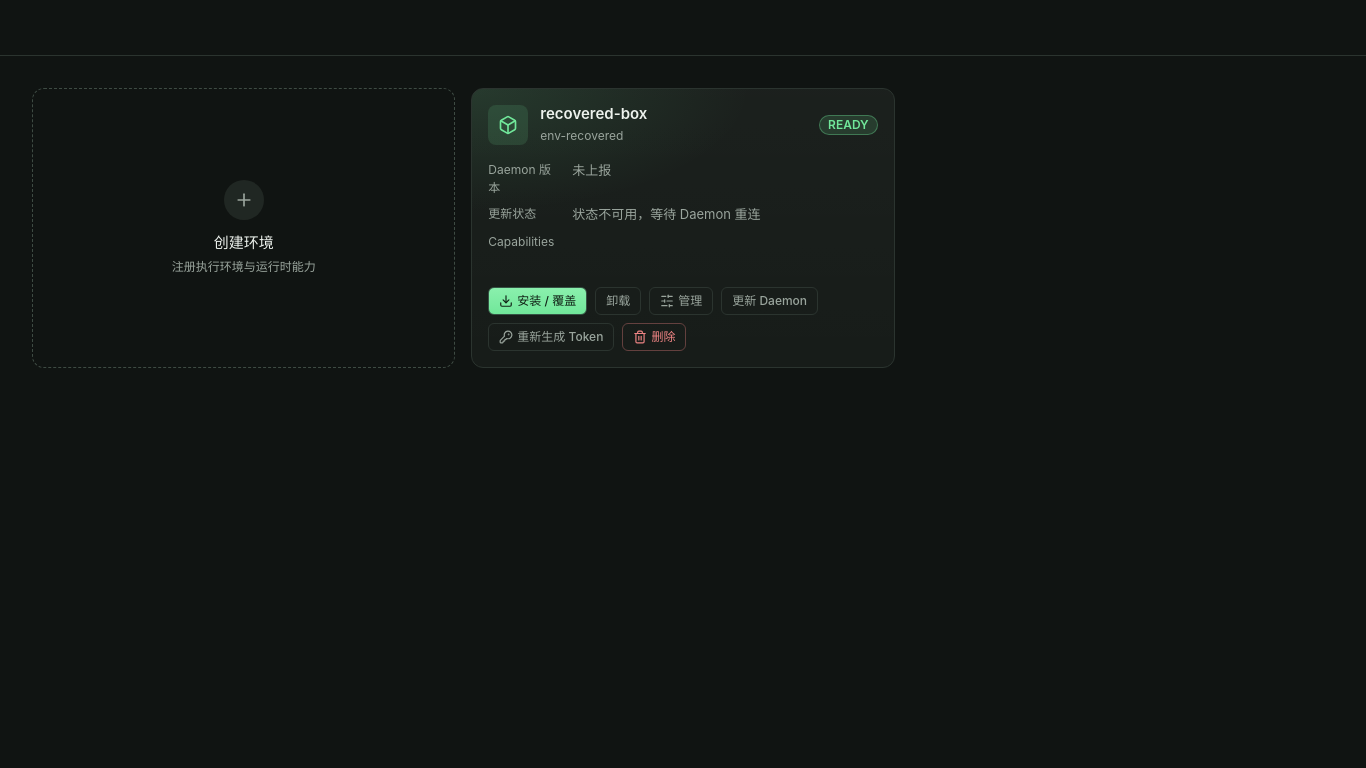
EnvironmentsPage › renders only the current status on the card and keeps event history in the management modal
The image size is (1366, 768).
Expected: the heading "recovered-box" is shown, [540, 104, 647, 123]
Expected: the text "READY" is shown, [819, 115, 878, 135]
Note: 打开管理弹窗后仍可见完整历史：历史 WARN 与后续 READY 都被保留。
Click the button "管理" at point(681, 301), box [649, 287, 713, 315]
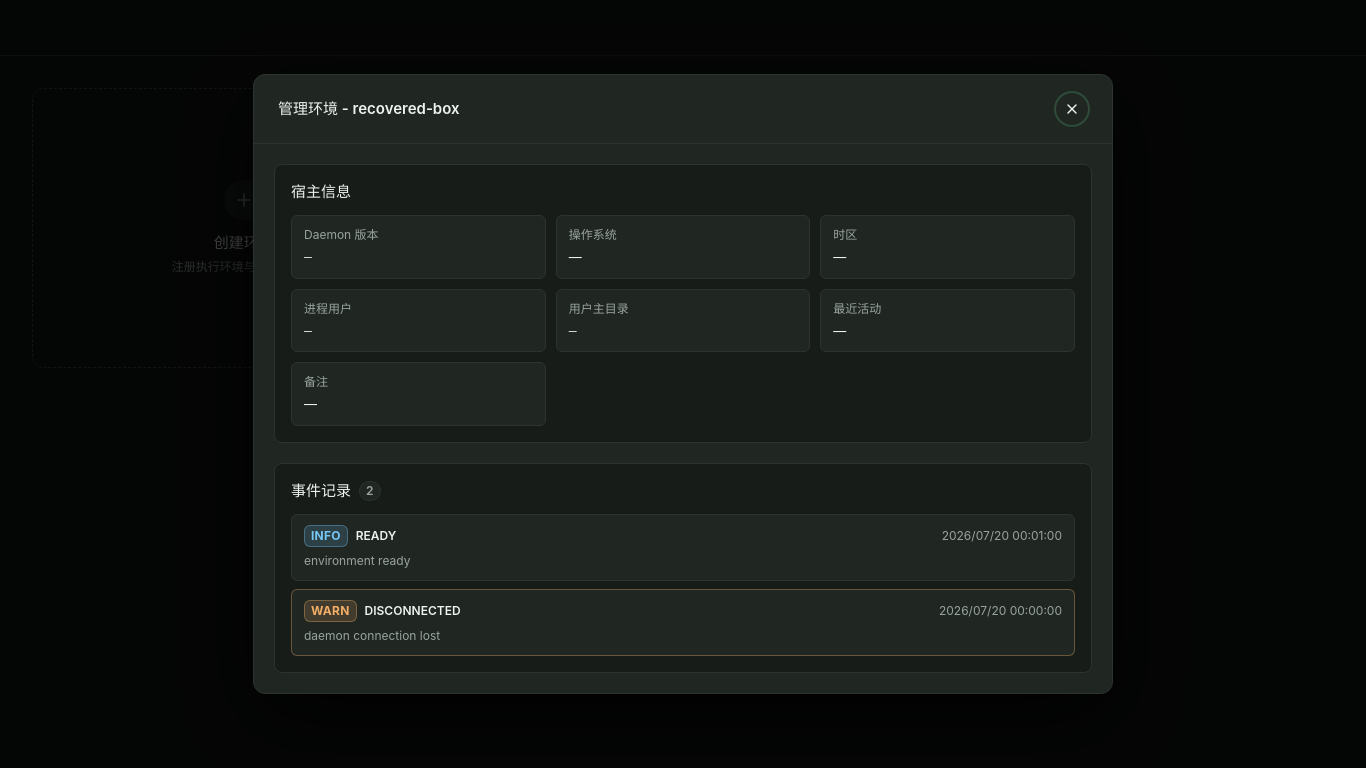
Expected: the text "daemon connection lost" is shown, [304, 628, 440, 643]
Expected: the text "environment ready" is shown, [304, 554, 410, 568]
